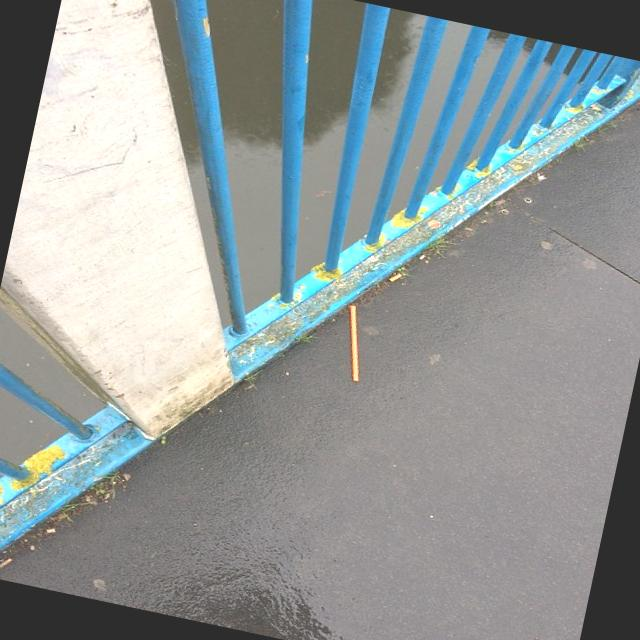Trash: (329, 296, 379, 386)
